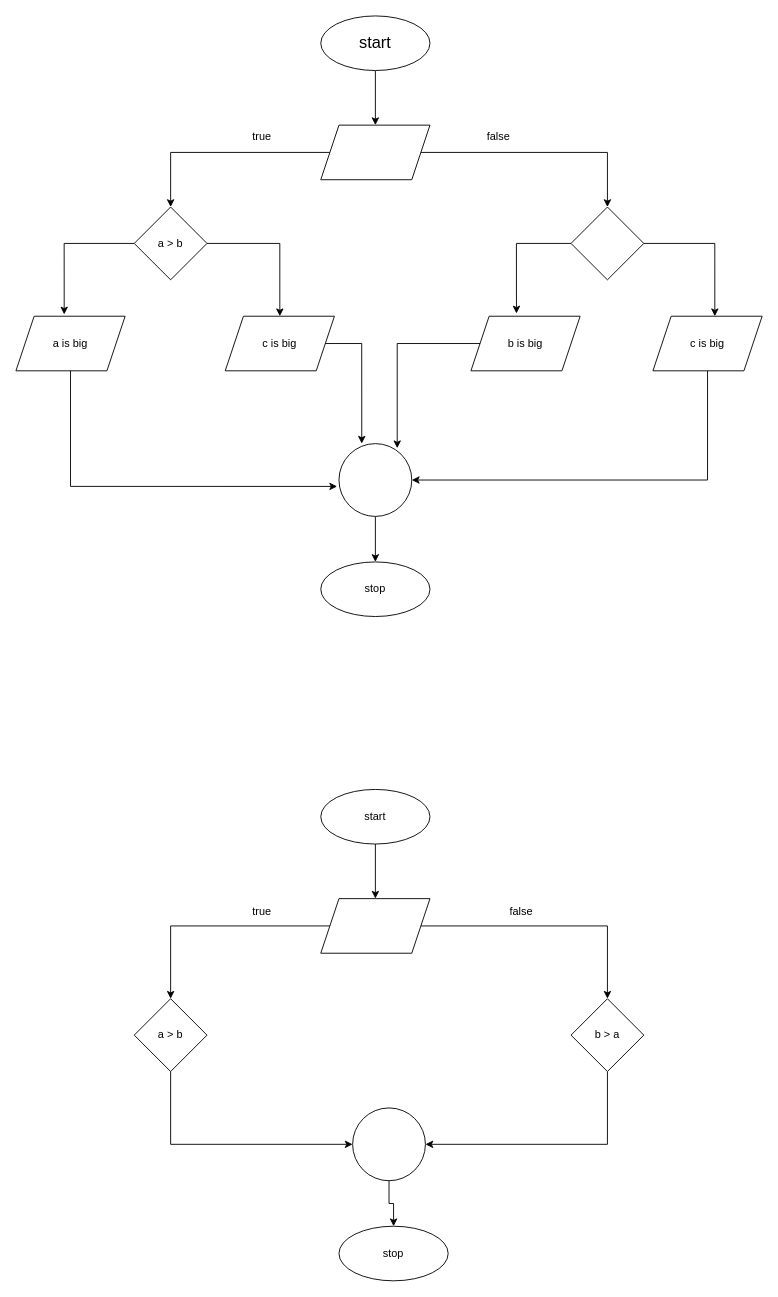
The diagram is 778 pixels wide and 1297 high, and some of its shapes have lost their labels. Each missing label, with the centre of its shape:
a = 10, b = 20, c = 30: the point at 375,152
a = 30, b = 20: the point at 375,925
b > c: the point at 607,243
